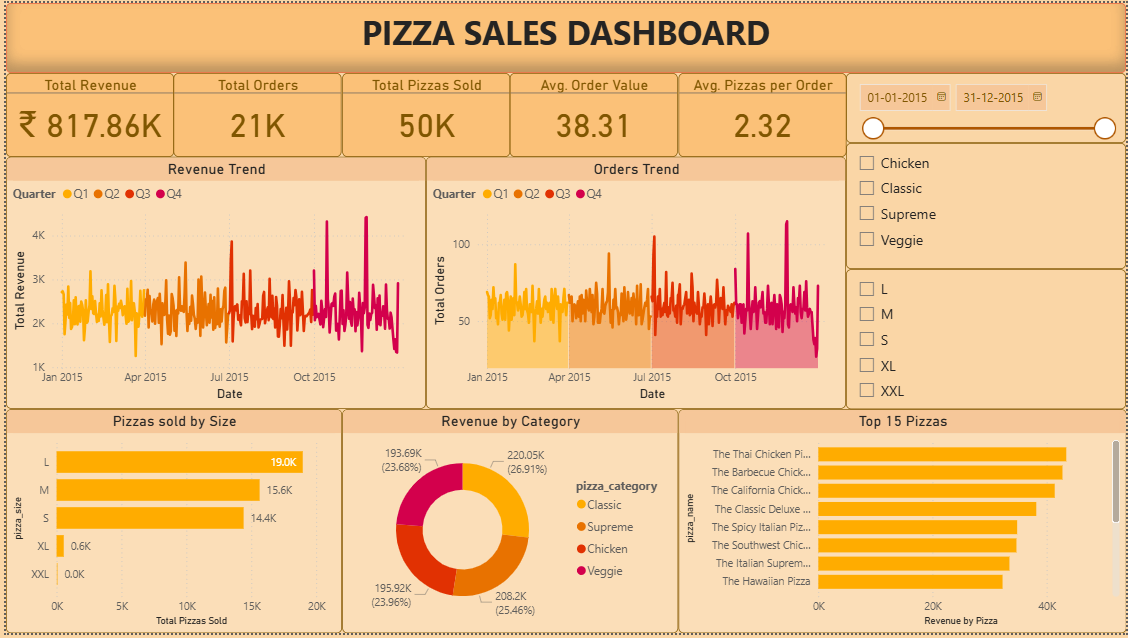

What the dashboard file says about the page in this screenshot:
{"tool":"powerbi","page":{"name":"Page 1","canvas":[1280,720],"ordinal":0},"visuals":[{"type":"textbox","box":[0,0,1280,80],"z":0},{"type":"slicer","fields":{"Values":["Date.Date"]},"box":[960,80,320,80],"z":1},{"type":"card","title":"Total Revenue","fields":{"Values":["pizza_sales.Total Revenue"]},"box":[0,80,192,96],"z":2},{"type":"card","title":"Total Orders","fields":{"Values":["pizza_sales.Total Orders"]},"box":[192,80,192,96],"z":3},{"type":"card","title":"Total Pizzas Sold","fields":{"Values":["pizza_sales.Total Pizzas Sold"]},"box":[384,80,192,96],"z":4},{"type":"card","title":"Avg. Order Value","fields":{"Values":["pizza_sales.Avg Order Value"]},"box":[576,80,192,96],"z":5},{"type":"card","title":"Avg. Pizzas per Order","fields":{"Values":["pizza_sales.Avg Pizzas Per Order"]},"box":[768,80,192,96],"z":6},{"type":"lineChart","title":"Revenue Trend","fields":{"Y":["pizza_sales.Total Revenue"],"Category":["Date.Date"],"Series":["Date.Quarter"]},"box":[0,176,480,288],"z":7},{"type":"areaChart","title":"Orders Trend","fields":{"Category":["Date.Date"],"Y":["pizza_sales.Total Orders"],"Series":["Date.Quarter"]},"box":[480,176,480,288],"z":8},{"type":"donutChart","title":"Revenue by Category","fields":{"Category":["pizza_sales.pizza_category"],"Y":["pizza_sales.Total Revenue"]},"box":[384,464,384,256],"z":9},{"type":"clusteredBarChart","title":"Pizzas sold by Size","fields":{"Category":["pizza_sales.pizza_size"],"Y":["pizza_sales.Total Pizzas Sold"]},"box":[0,464,384,256],"z":10},{"type":"clusteredBarChart","title":"Top 15 Pizzas","fields":{"Category":["pizza_sales.pizza_name"],"Y":["pizza_sales.Revenue by Pizza"]},"box":[768,464,512,256],"z":11},{"type":"slicer","fields":{"Values":["pizza_sales.pizza_category"]},"box":[960,160,320,144],"z":12},{"type":"slicer","fields":{"Values":["pizza_sales.pizza_size"]},"box":[960,304,320,160],"z":13}]}

Visuals, with their boxes in screenshot pixels (x1, y1, x2, y2), scaled from the page's 1280x720 canvas onto the 1128x638 screenshot:
textbox: {"x1": 0, "y1": 0, "x2": 1127, "y2": 71}
slicer - Date.Date: {"x1": 846, "y1": 71, "x2": 1127, "y2": 142}
"Total Revenue" card: {"x1": 0, "y1": 71, "x2": 169, "y2": 156}
"Total Orders" card: {"x1": 169, "y1": 71, "x2": 338, "y2": 156}
"Total Pizzas Sold" card: {"x1": 338, "y1": 71, "x2": 508, "y2": 156}
"Avg. Order Value" card: {"x1": 508, "y1": 71, "x2": 677, "y2": 156}
"Avg. Pizzas per Order" card: {"x1": 677, "y1": 71, "x2": 846, "y2": 156}
"Revenue Trend" lineChart: {"x1": 0, "y1": 156, "x2": 423, "y2": 411}
"Orders Trend" areaChart: {"x1": 423, "y1": 156, "x2": 846, "y2": 411}
"Revenue by Category" donutChart: {"x1": 338, "y1": 411, "x2": 677, "y2": 637}
"Pizzas sold by Size" clusteredBarChart: {"x1": 0, "y1": 411, "x2": 338, "y2": 637}
"Top 15 Pizzas" clusteredBarChart: {"x1": 677, "y1": 411, "x2": 1127, "y2": 637}
slicer - pizza_sales.pizza_category: {"x1": 846, "y1": 142, "x2": 1127, "y2": 269}
slicer - pizza_sales.pizza_size: {"x1": 846, "y1": 269, "x2": 1127, "y2": 411}
